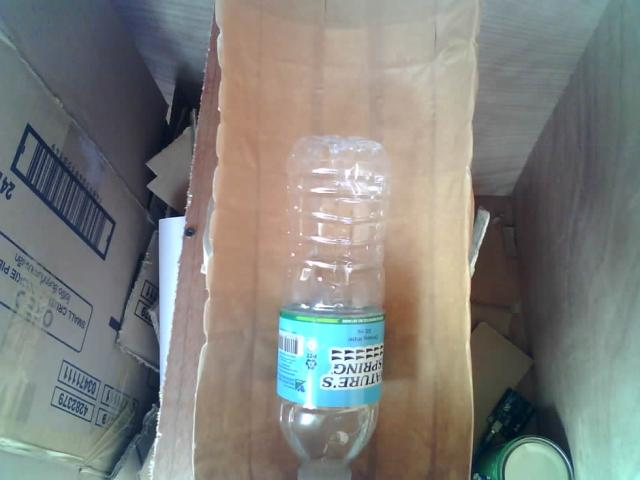small_bottle: (258, 133, 416, 480)
